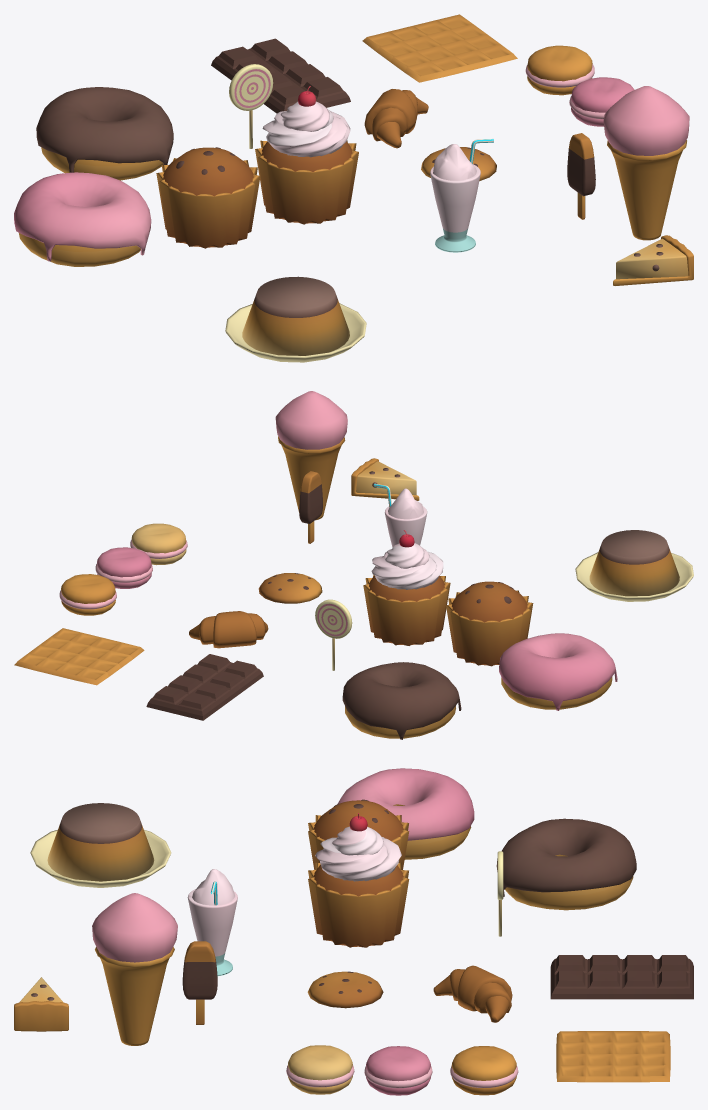
File: LowPoly_SweetPack.fbx
3 views of the same model, one above another, from view 1: azimuth 30°, elevation 25°; view 2: azimuth 150°, elevation 25°; view 3: azimuth 270°, elevation 25° (orthographic). The views are drawn at different scales.
Visible parts, largest first — view 1: Donut_Cherry.001, Donut_Choco.001, Cream_Pancake, İcecream.001, Cookie_Pancake, Jelly.001, Waffle_.001, Chocalate.001, MilkShake.001, Cube.003, Cookie.001, Kruvasan.001 (+5 smaller); view 2: Cream_Pancake, Donut_Cherry.001, Donut_Choco.001, Cookie_Pancake, İcecream.001, Jelly.001, Chocalate.001, Waffle_.001, Kruvasan.001, Cookie.001, Cookie2.001, Cube.003 (+6 smaller); view 3: Donut_Choco.001, Cream_Pancake, İcecream.001, Donut_Cherry.001, Jelly.001, Chocalate.001, Waffle_.001, MilkShake.001, Cookie_Pancake, Cookie3.001, Cookie2.001, Cookie.001 (+5 smaller).
Boxes of the visible parts, left/top/right/bottom form: Donut_Cherry.001: left=14, top=172, right=151, bottom=266; Donut_Choco.001: left=36, top=87, right=173, bottom=180; Cream_Pancake: left=255, top=86, right=358, bottom=224; İcecream.001: left=603, top=86, right=689, bottom=240; Cookie_Pancake: left=156, top=147, right=260, bottom=248; Jelly.001: left=242, top=276, right=349, bottom=355; Waffle_.001: left=362, top=14, right=517, bottom=82; Chocalate.001: left=211, top=38, right=350, bottom=113; MilkShake.001: left=430, top=139, right=493, bottom=252; Cube.003: left=613, top=235, right=693, bottom=285; Cookie.001: left=525, top=45, right=594, bottom=95; Kruvasan.001: left=364, top=89, right=428, bottom=148; Cream_Pancake: left=363, top=530, right=450, bottom=645; Donut_Cherry.001: left=499, top=633, right=617, bottom=710; Donut_Choco.001: left=342, top=662, right=461, bottom=739; Cookie_Pancake: left=446, top=581, right=533, bottom=666; İcecream.001: left=275, top=391, right=347, bottom=520; Jelly.001: left=589, top=530, right=679, bottom=596; Chocalate.001: left=146, top=654, right=263, bottom=720; Waffle_.001: left=14, top=628, right=144, bottom=685; Kruvasan.001: left=189, top=611, right=268, bottom=648; Cookie.001: left=59, top=574, right=116, bottom=615; Cookie2.001: left=95, top=547, right=152, bottom=588; Cube.003: left=351, top=458, right=419, bottom=500; Donut_Choco.001: left=496, top=818, right=636, bottom=910; Cream_Pancake: left=308, top=813, right=409, bottom=947; İcecream.001: left=92, top=893, right=177, bottom=1045; Donut_Cherry.001: left=337, top=768, right=474, bottom=859; Jelly.001: left=47, top=803, right=154, bottom=881; Chocalate.001: left=550, top=955, right=693, bottom=999; Waffle_.001: left=556, top=1031, right=670, bottom=1082; MilkShake.001: left=187, top=869, right=237, bottom=976; Cookie_Pancake: left=308, top=799, right=409, bottom=869; Cookie3.001: left=286, top=1045, right=354, bottom=1094; Cookie2.001: left=364, top=1046, right=432, bottom=1095; Cookie.001: left=450, top=1046, right=518, bottom=1095.
Bounding box in the file's own units: 3.13 × 3.06 × 0.7439.
Materials: 1 (1 with a texture image).
